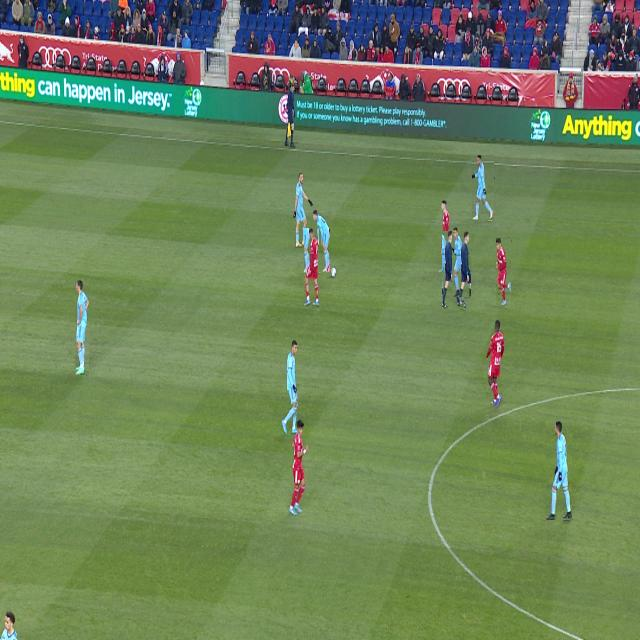football: (331, 267, 336, 277)
player: (546, 421, 572, 520), (289, 419, 308, 515), (486, 320, 504, 408), (282, 340, 298, 434), (293, 173, 313, 247), (472, 155, 494, 220), (452, 228, 471, 297), (76, 280, 89, 375), (304, 229, 319, 306), (313, 211, 330, 272), (496, 238, 511, 305), (439, 201, 451, 273), (0, 610, 17, 640)
referee: (443, 232, 464, 309)
